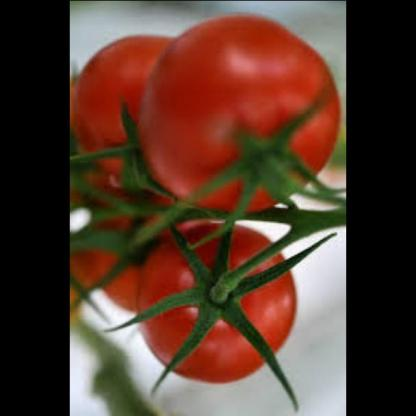tomato: (143, 13, 346, 212), (146, 220, 299, 388), (75, 27, 180, 196), (82, 196, 173, 312)
